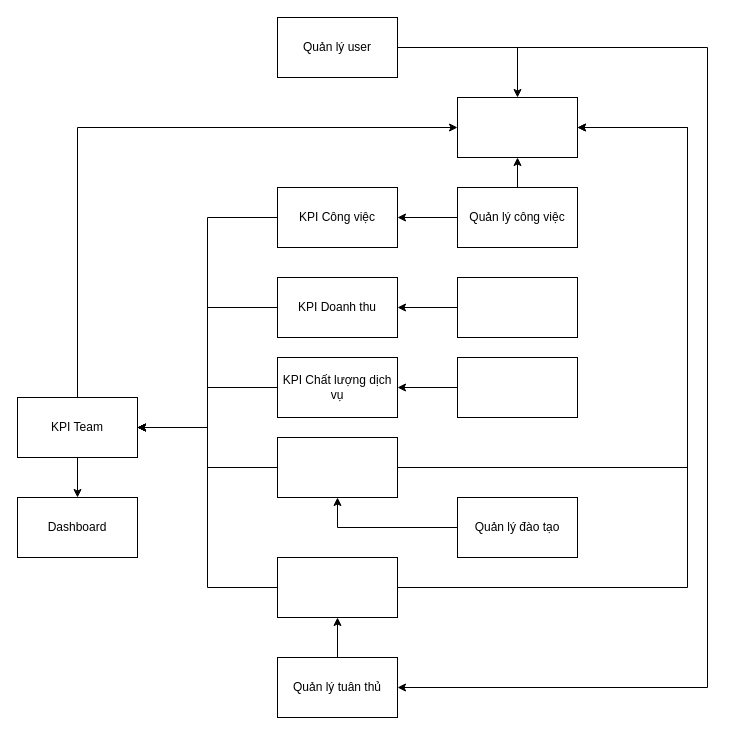
The diagram is 733 pixels wide and 735 high, and some of its shapes have lost their labels. Each missing label, with the box of its shape:
KPI Cá nhân: (456, 96, 578, 158)
KPI Tuân thủ: (276, 556, 398, 618)
KPI Đào tạo: (276, 436, 398, 498)
Quản lý CLDV: (456, 356, 578, 418)
Quản lý doanh thu: (456, 276, 578, 338)
